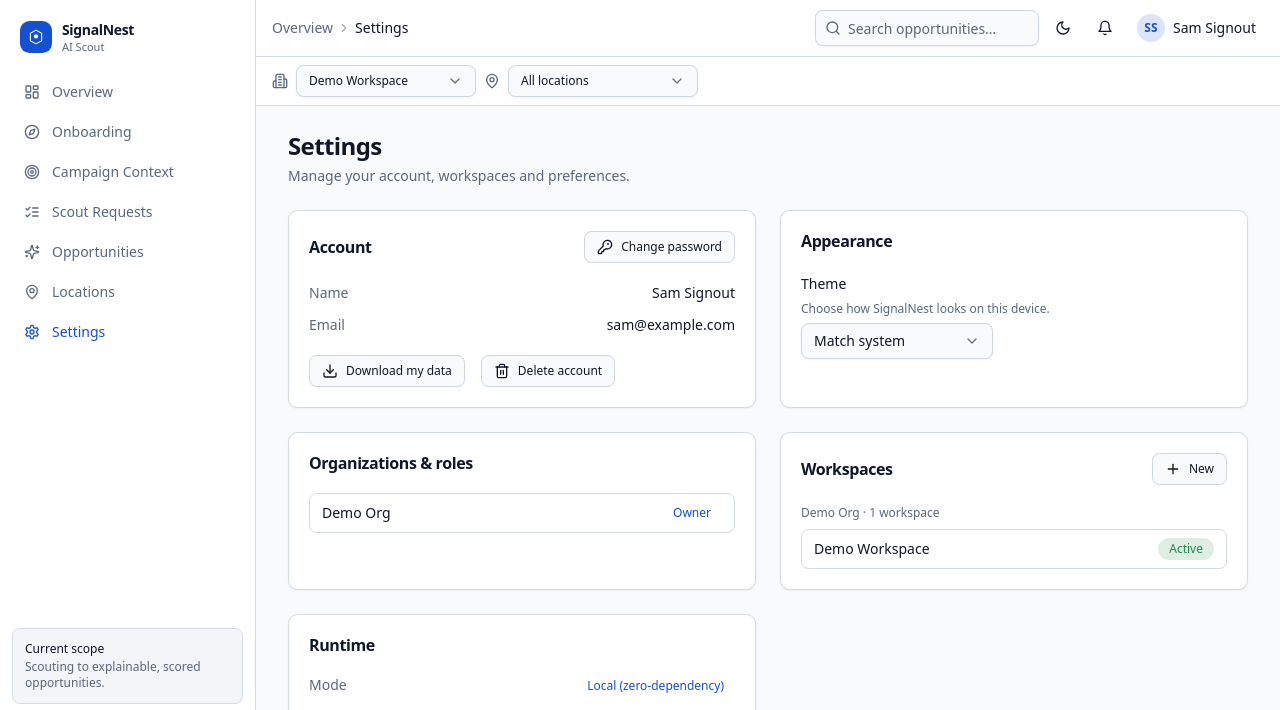
Sign out (the account menu) › clears this browser but says the server did not confirm on a 404 (F-04: local-only)
The image size is (1280, 710).
Click the button with aria-label "account menu" at (1196, 28), box x1=1129 y1=10 x2=1264 y2=46
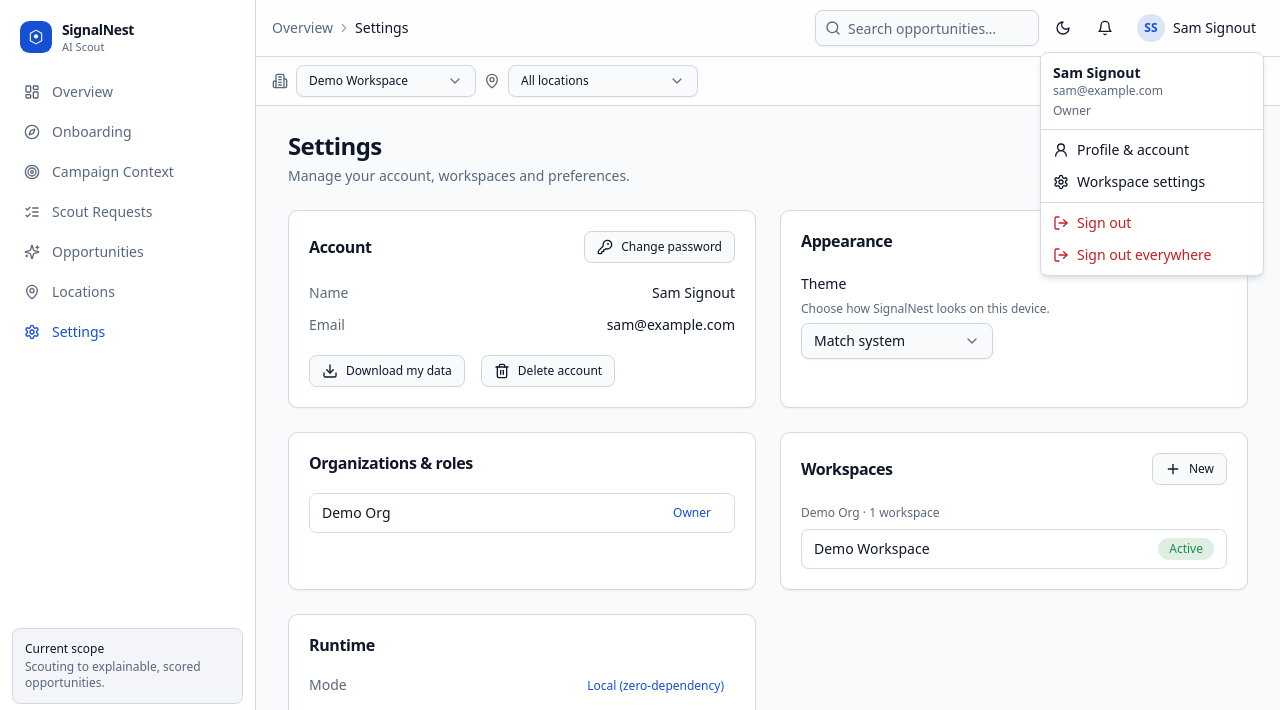
Click the menu item "Sign out" at (1092, 222), box x1=1053 y1=213 x2=1131 y2=232
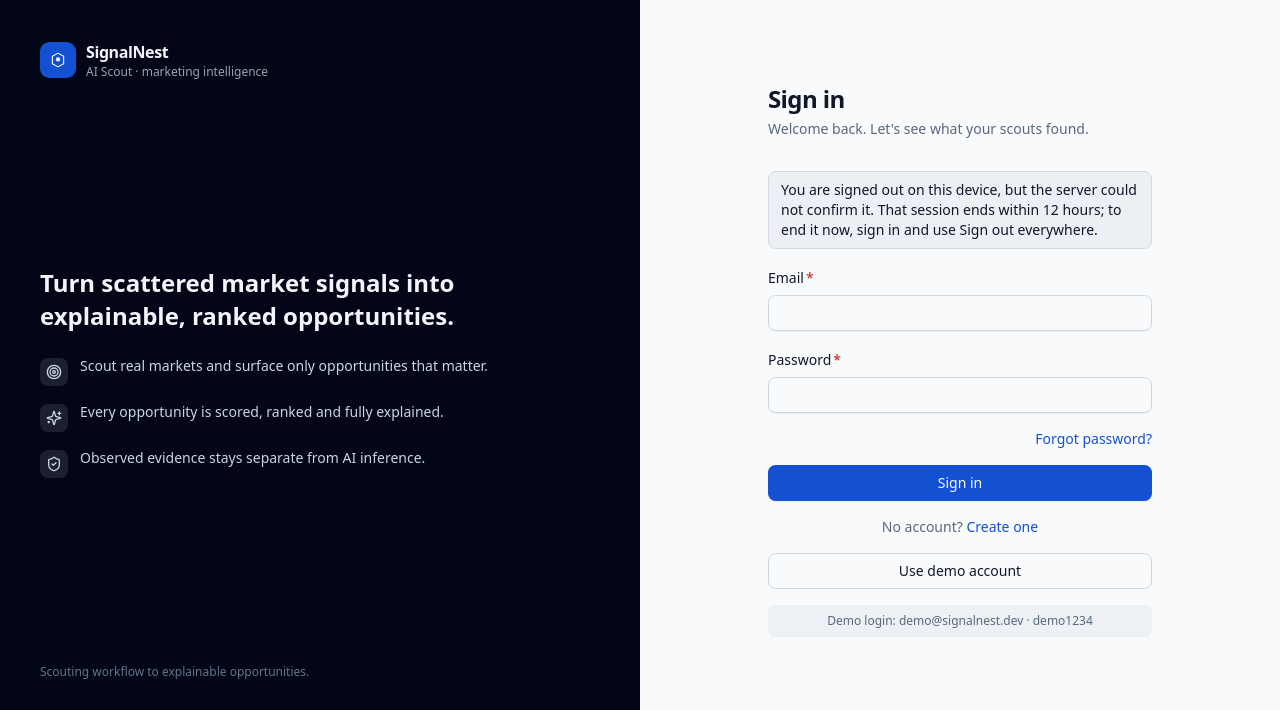
Now the text "You are signed out on this device, but the server could not confirm it. That session ends within 12 hours; to end it now" is shown, box x1=781 y1=180 x2=1137 y2=239
